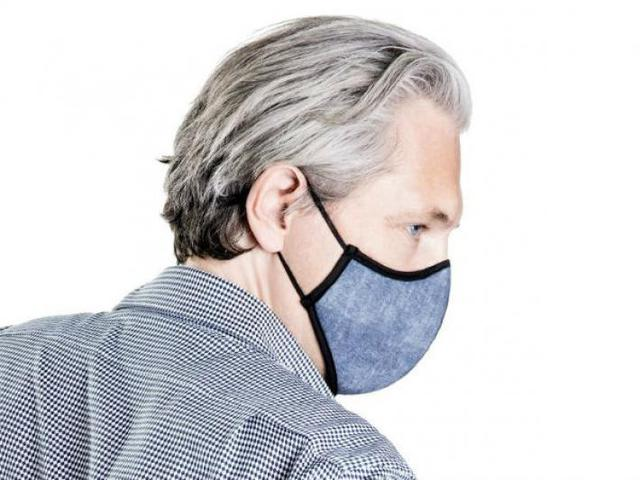mask: (323, 258, 464, 402)
